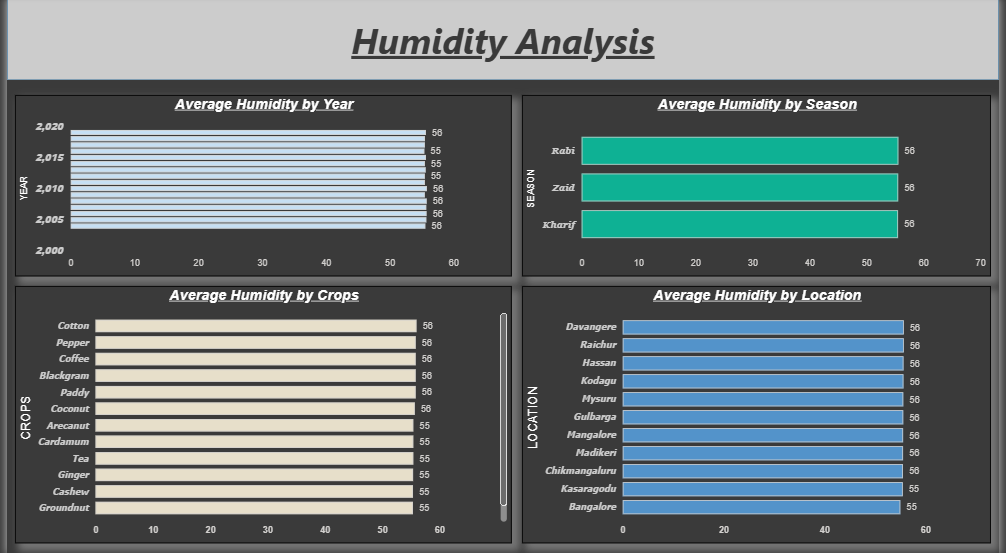

What the dashboard file says about the page in this screenshot:
{"tool":"powerbi","page":{"name":"Humidity Analysis","canvas":[1280,720],"ordinal":2},"visuals":[{"type":"shape","box":[0,0,1279.8,107.3],"z":0},{"type":"barChart","title":"Average Humidity by Year","fields":{"Category":["AGRICULTURE.YEAR"],"Y":["Avg(AGRICULTURE.HUMIDITY)"]},"box":[10.3,126.4,640.7,233.6],"z":1000},{"type":"barChart","title":"Average Humidity by Season","fields":{"Category":["AGRICULTURE.SEASON"],"Y":["Avg(AGRICULTURE.HUMIDITY)"]},"box":[664.2,126.4,605.4,233.6],"z":2000},{"type":"barChart","title":"Average Humidity by Crops","fields":{"Category":["AGRICULTURE.CROPS"],"Y":["Avg(AGRICULTURE.HUMIDITY)"]},"box":[10.3,373.2,640.7,332.1],"z":3000},{"type":"barChart","title":"Average Humidity by Location","fields":{"Category":["AGRICULTURE.LOCATION"],"Y":["Avg(AGRICULTURE.HUMIDITY)"]},"box":[664.2,373.2,605.4,332.1],"z":4000}]}

Visuals, with their boxes in screenshot pixels (x1, y1, x2, y2), scaled from the page's 1280x720 canvas onto the 1006x553 screenshot:
shape: 0,0,1005,82
"Average Humidity by Year" barChart: 8,97,512,276
"Average Humidity by Season" barChart: 522,97,998,276
"Average Humidity by Crops" barChart: 8,287,512,542
"Average Humidity by Location" barChart: 522,287,998,542
